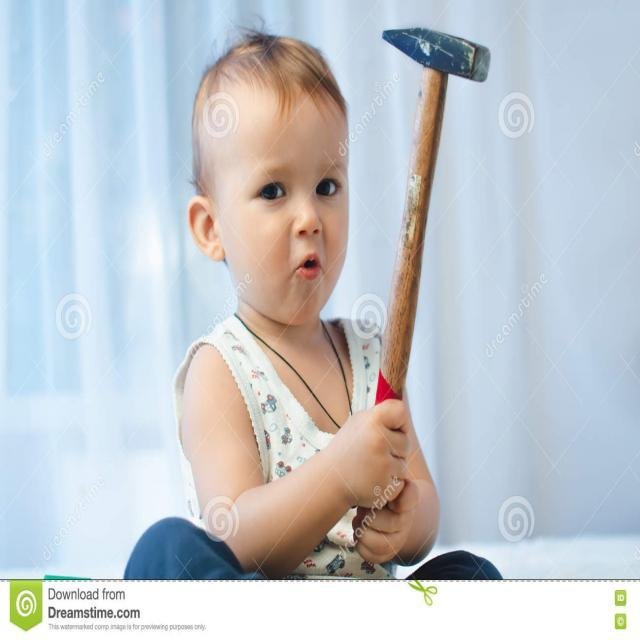hammer: (370, 15, 493, 425)
